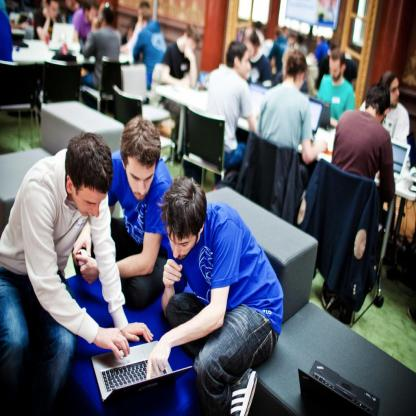board: (91, 339, 192, 402), (298, 359, 380, 416), (374, 138, 411, 184), (310, 97, 336, 131), (307, 97, 323, 140)
